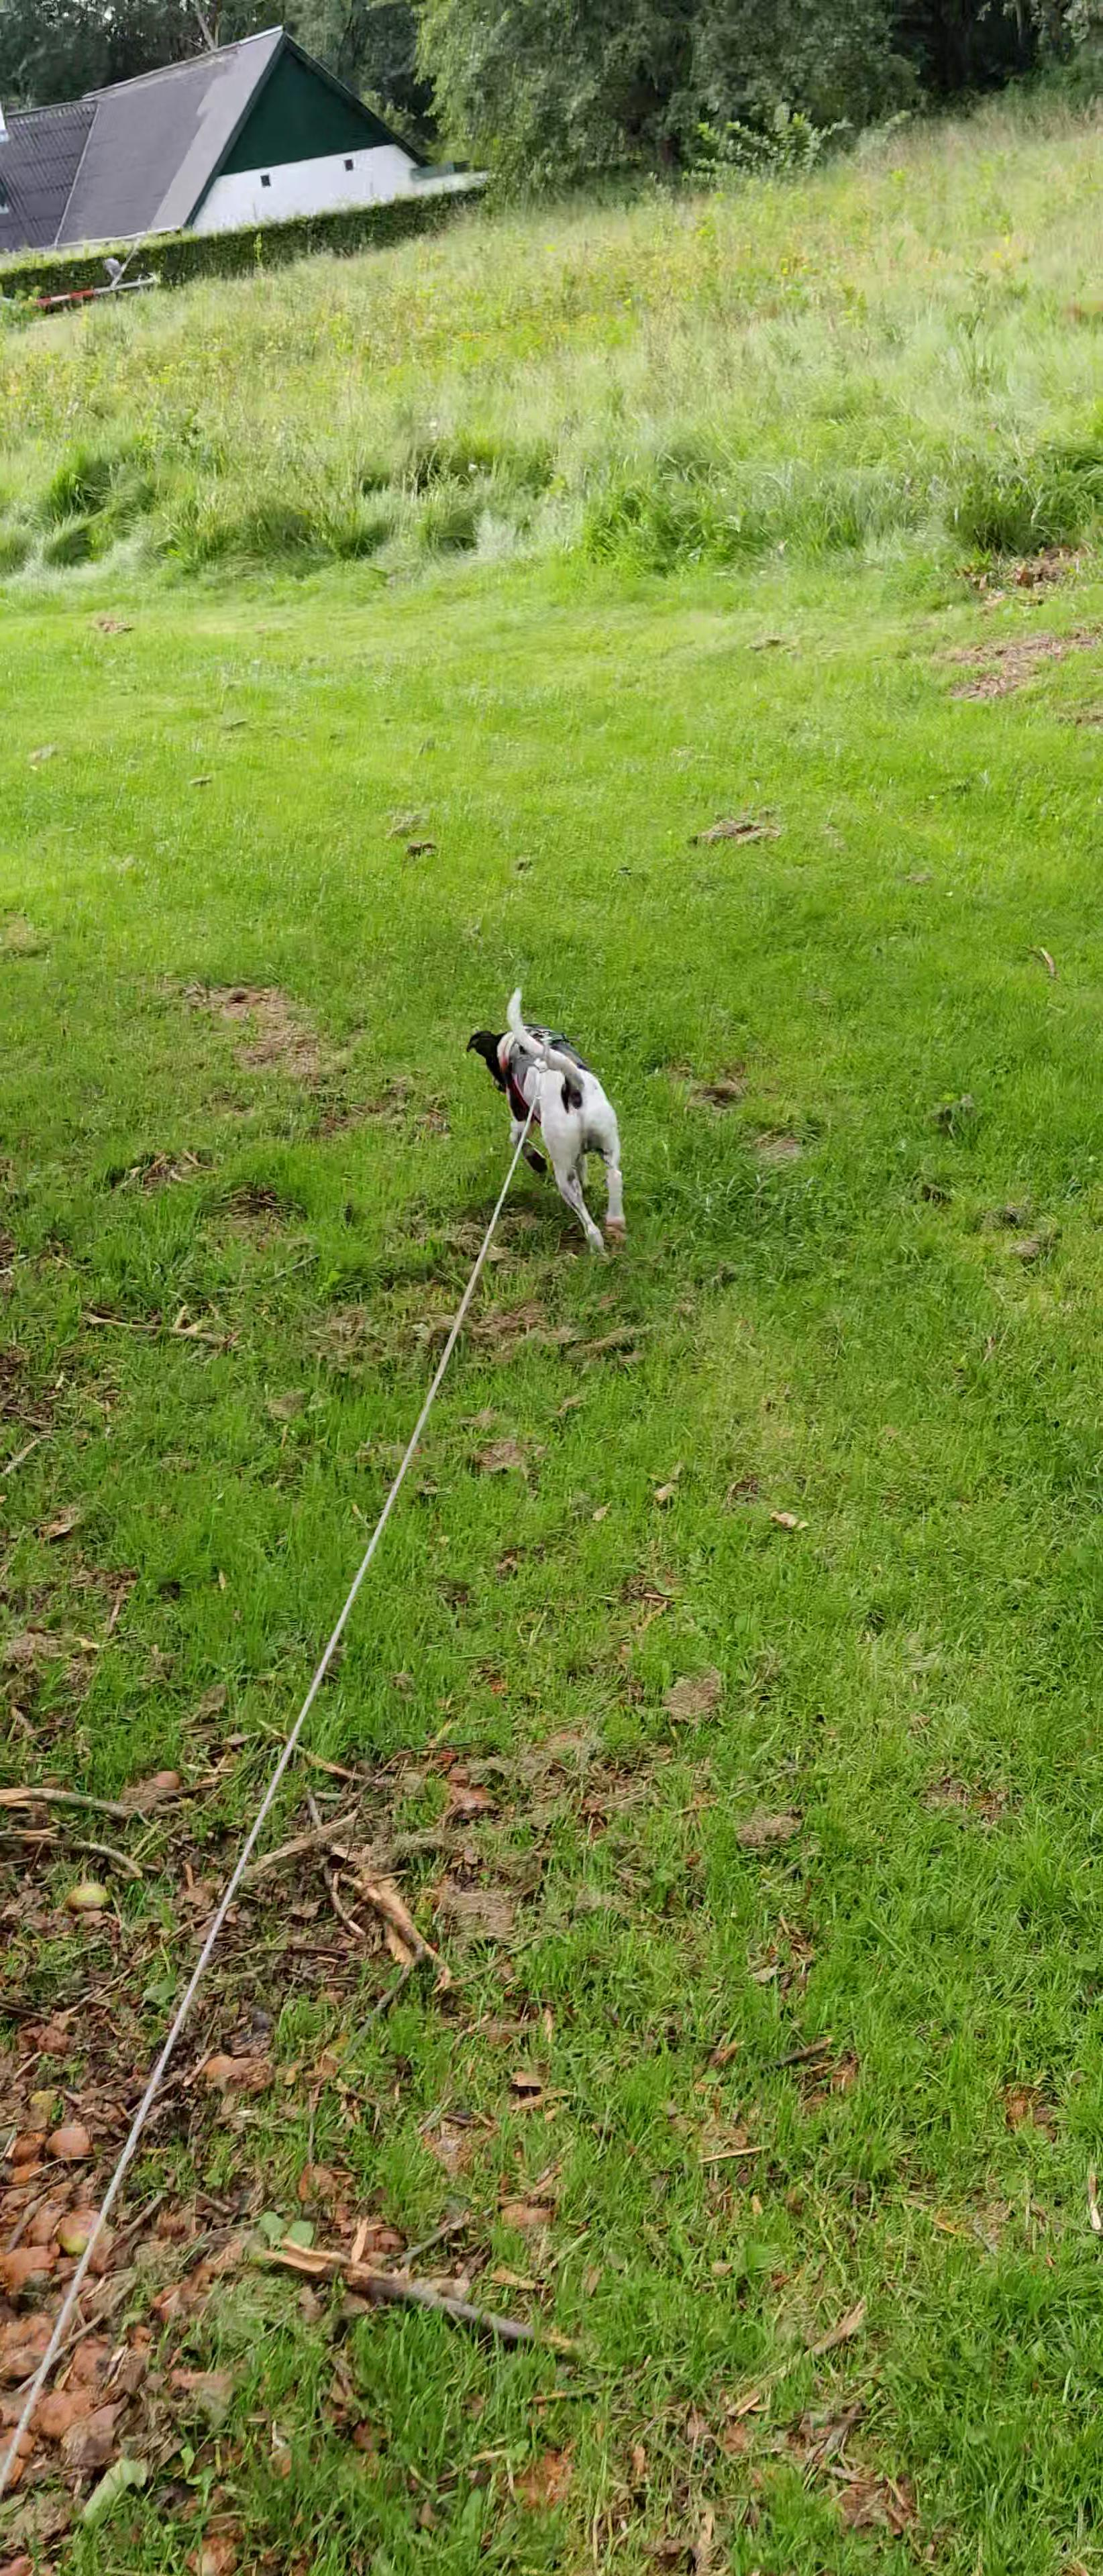Dog: (464, 981, 628, 1267)
